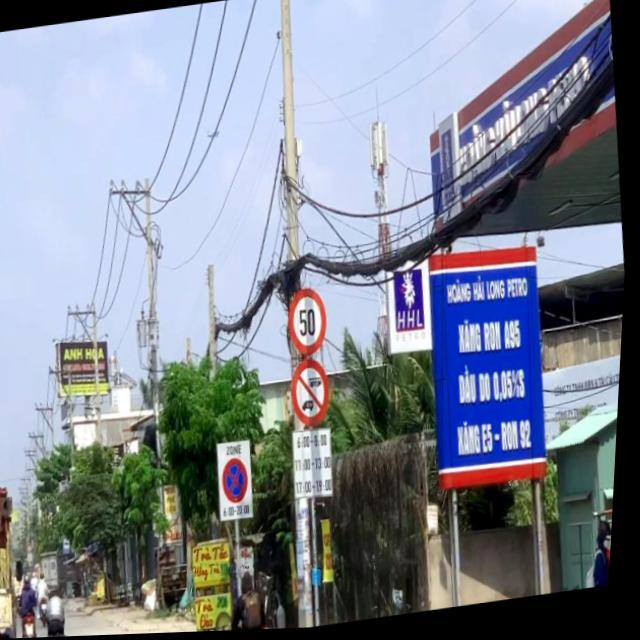Cam dung xe va do xe: (224, 457, 256, 506)
Toc do toi da cho phep: (287, 287, 334, 360)
